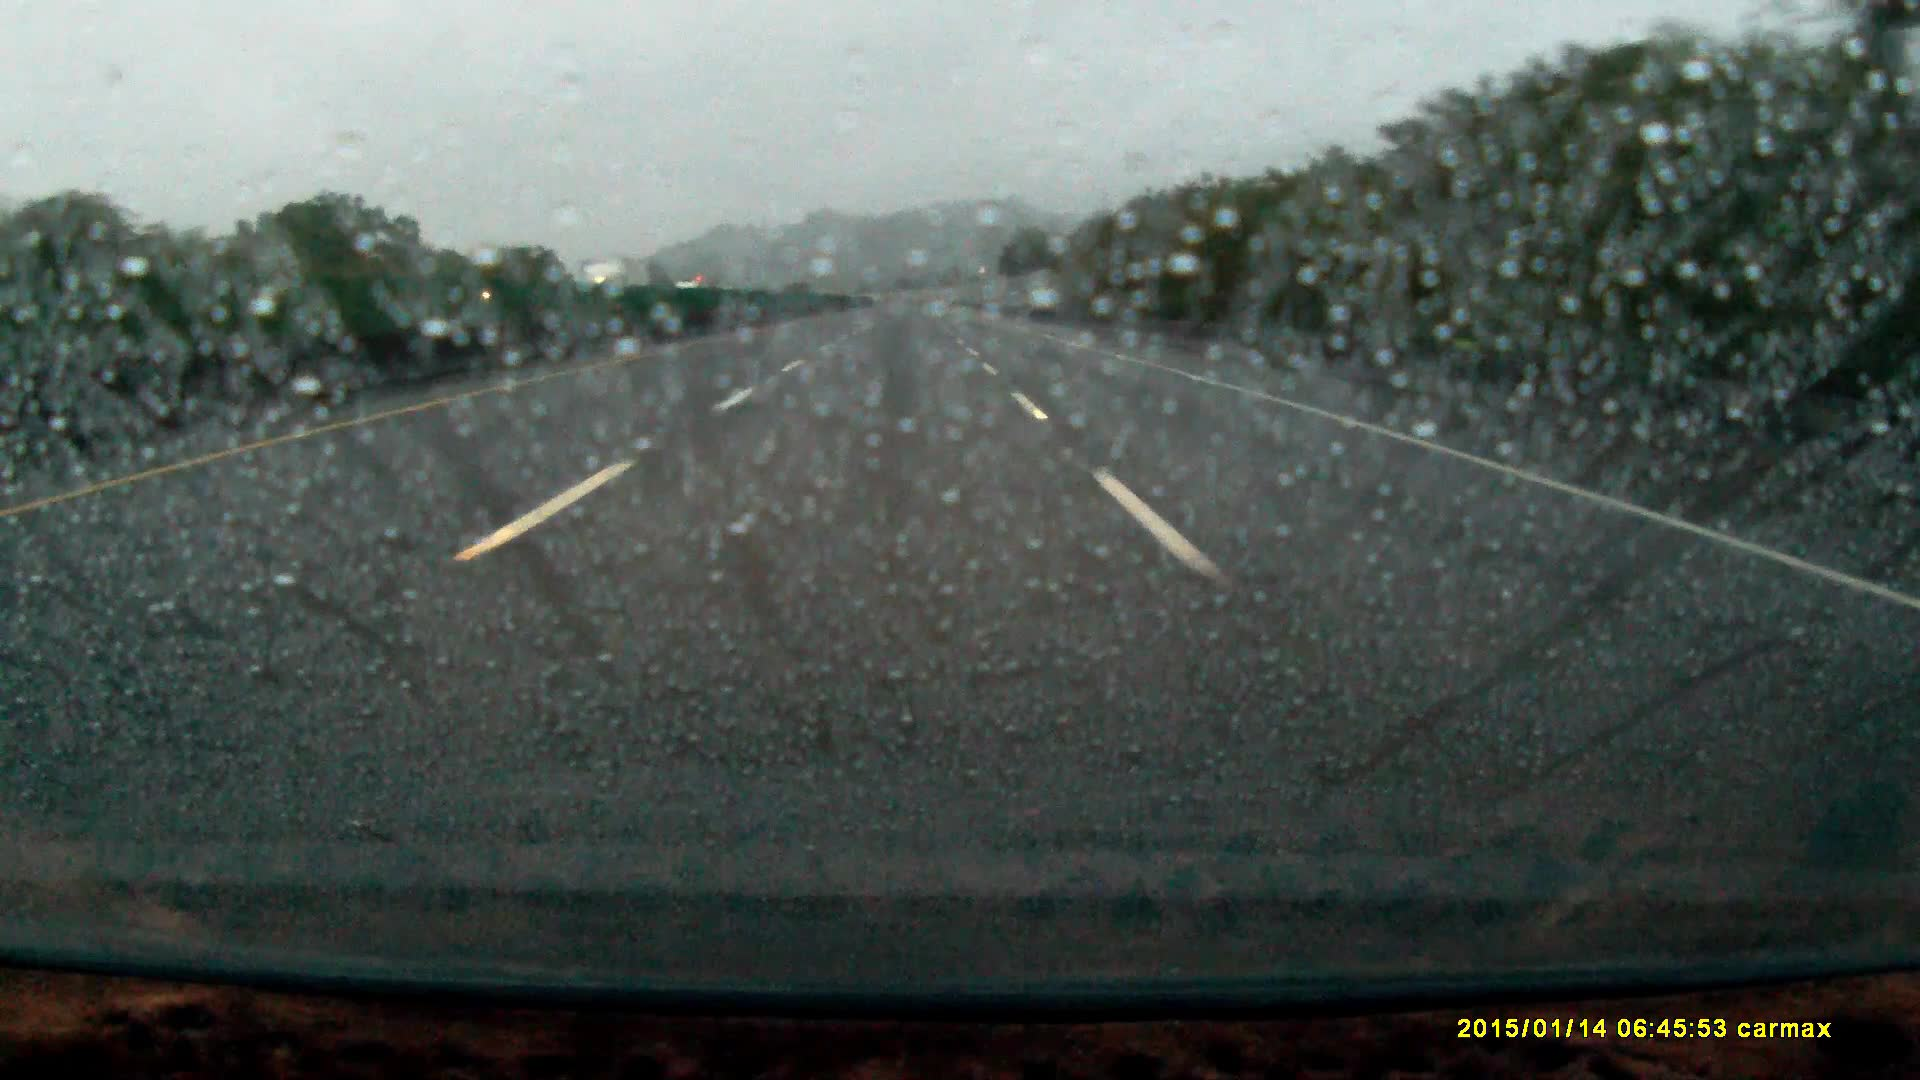vehicle: (675, 277, 711, 307)
